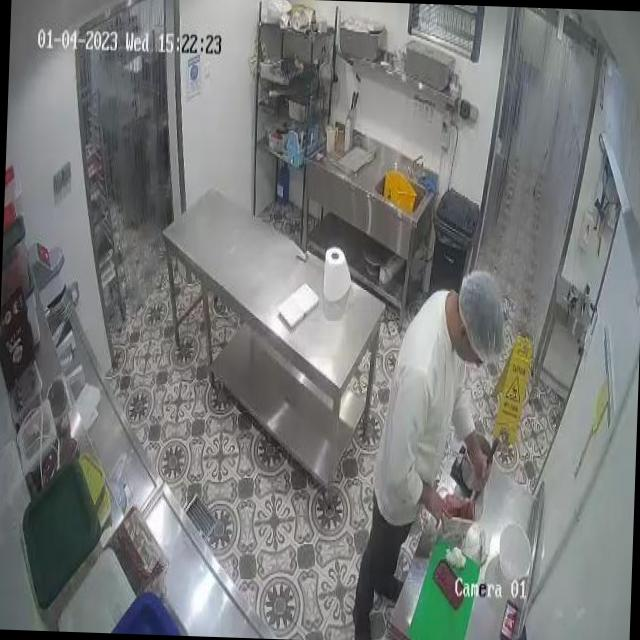hairnet: (462, 267, 506, 356)
